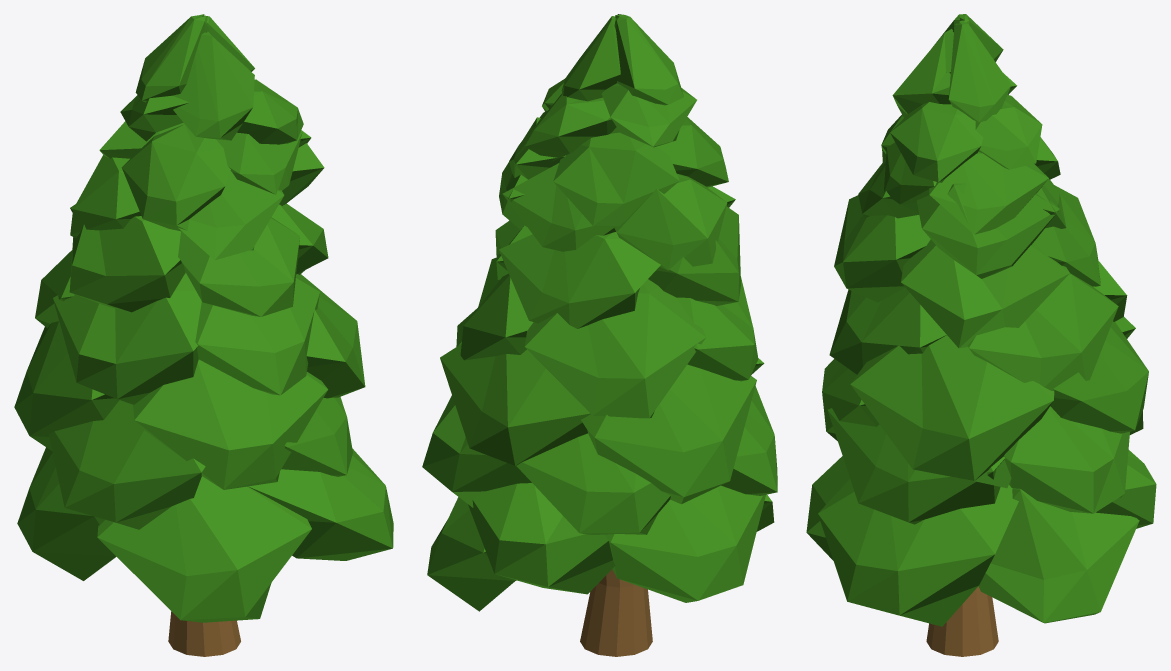
Rendered from PineTree1.fbx.
The picture shows the model from 3 angles, left to right: view 1: azimuth 30°, elevation 25°; view 2: azimuth 150°, elevation 25°; view 3: azimuth 270°, elevation 25°; orthographic projection.
Visible parts, largest first — view 1: Cylinder; view 2: Cylinder; view 3: Cylinder.
Boxes of the visible parts, bbox=[...] form: Cylinder: bbox=[14, 14, 393, 656]; Cylinder: bbox=[422, 14, 777, 656]; Cylinder: bbox=[806, 14, 1156, 656].
Size of the model in its own units: 976 by 1898 by 968.
